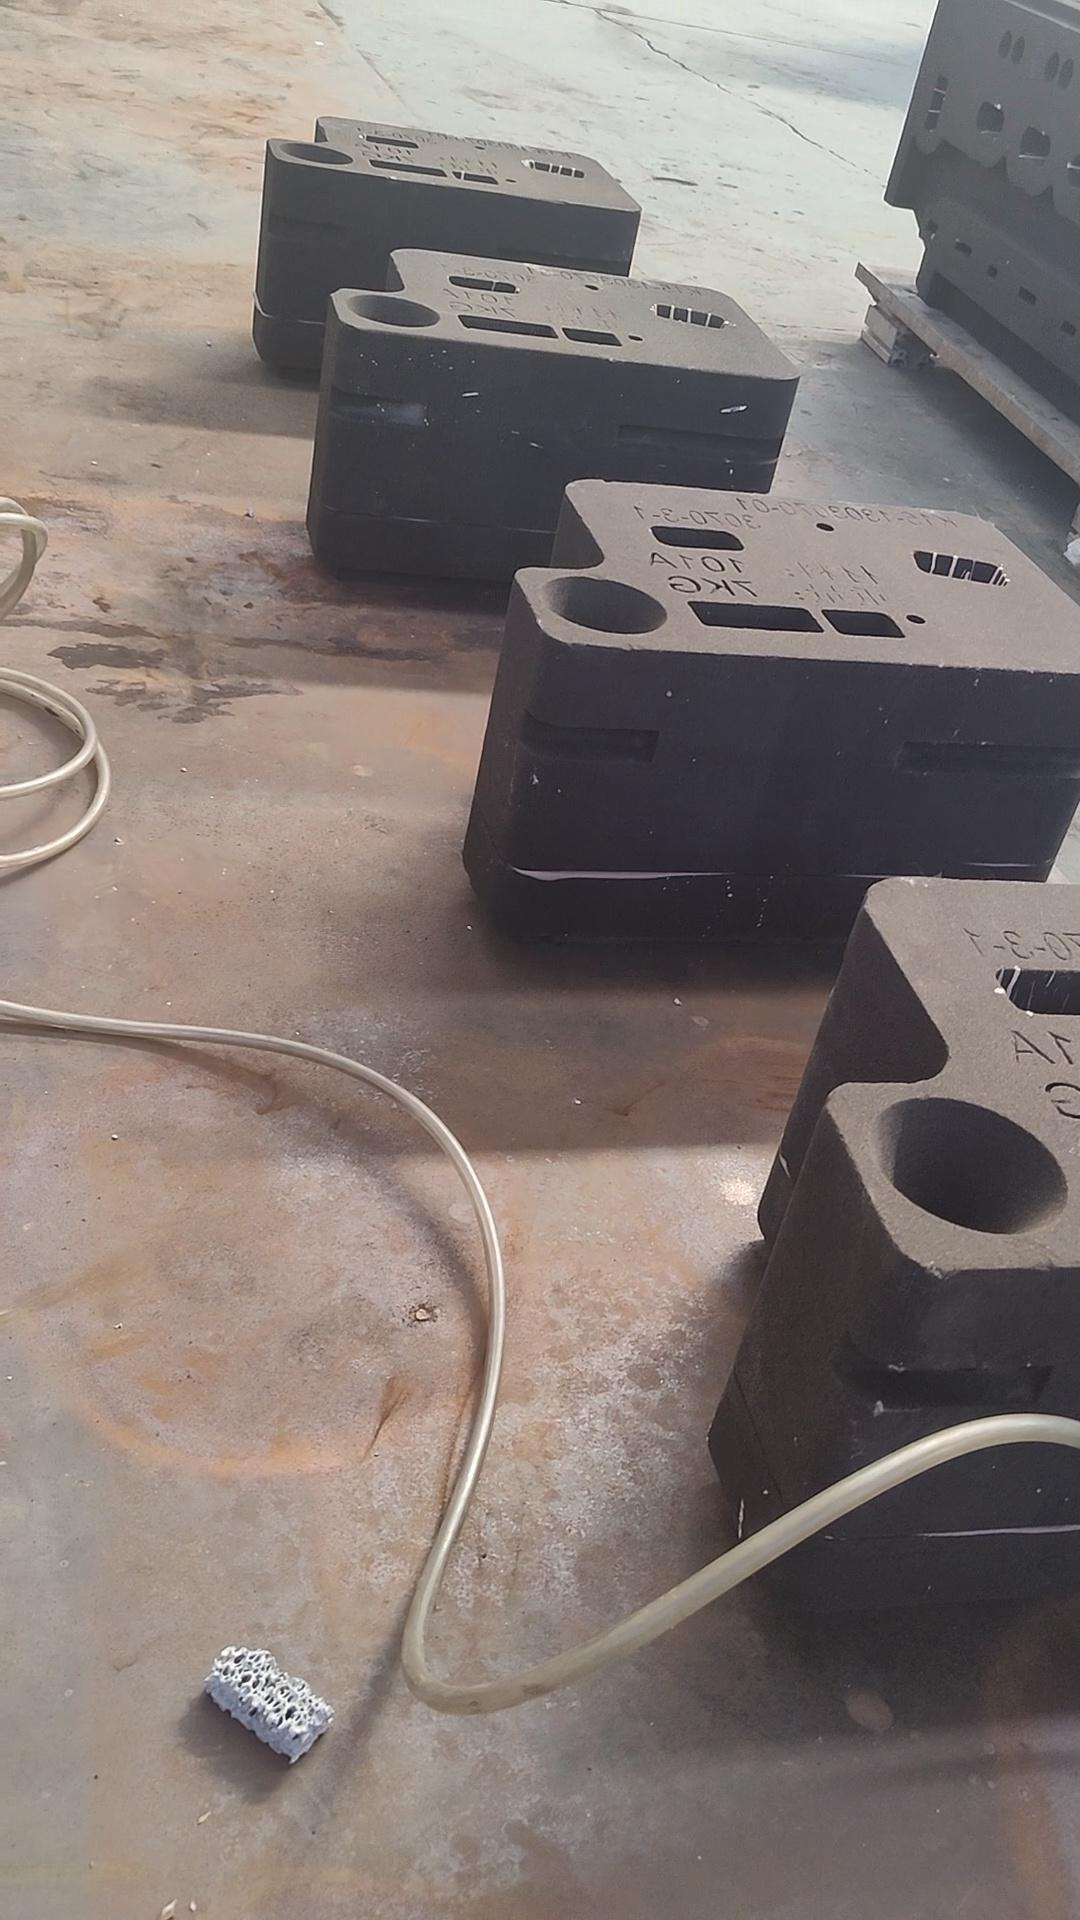pouring hole: (866, 1095, 1069, 1234), (537, 575, 669, 633), (345, 295, 440, 328), (276, 141, 353, 164)
